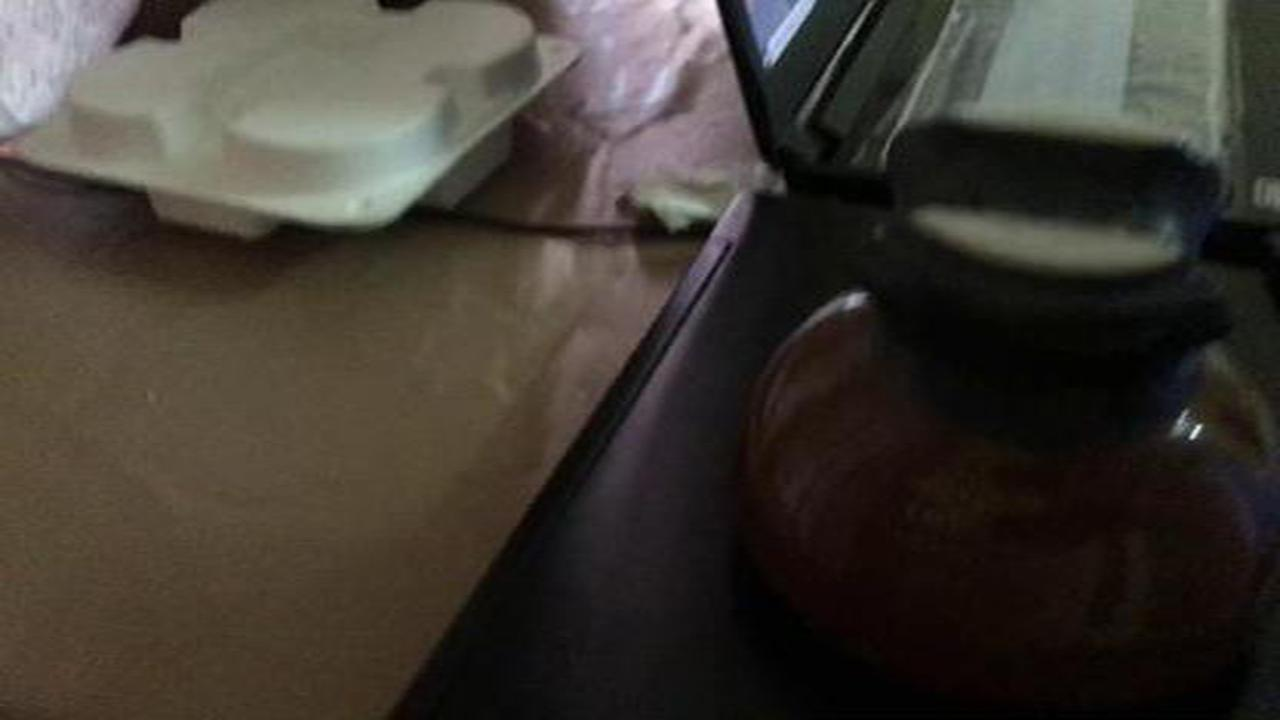insulator_pin: (721, 106, 1277, 688)
